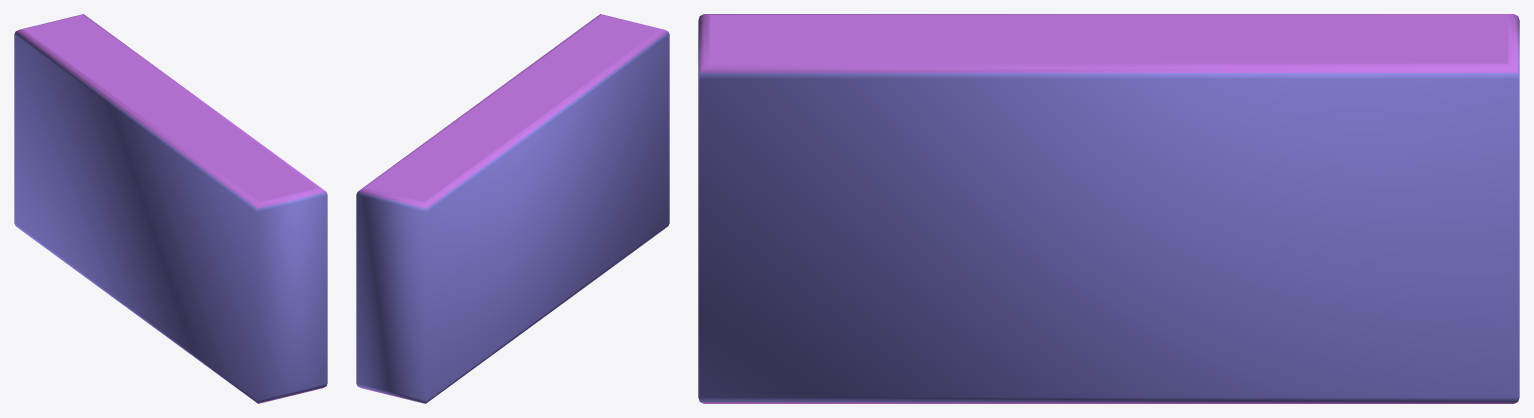
File: letter_I.fbx
3 renders of one model, left to right at view 1: azimuth 30°, elevation 25°; view 2: azimuth 150°, elevation 25°; view 3: azimuth 270°, elevation 25°, orthographic. The views are drawn at different scales.
Visible parts, largest first — view 1: Letter_I; view 2: Letter_I; view 3: Letter_I.
Boxes of the visible parts, <box> form: Letter_I: <box>14,14,327,403</box>; Letter_I: <box>356,14,669,403</box>; Letter_I: <box>698,14,1519,403</box>.
Size of the model in its own units: 11.8 by 32 by 70.2.
